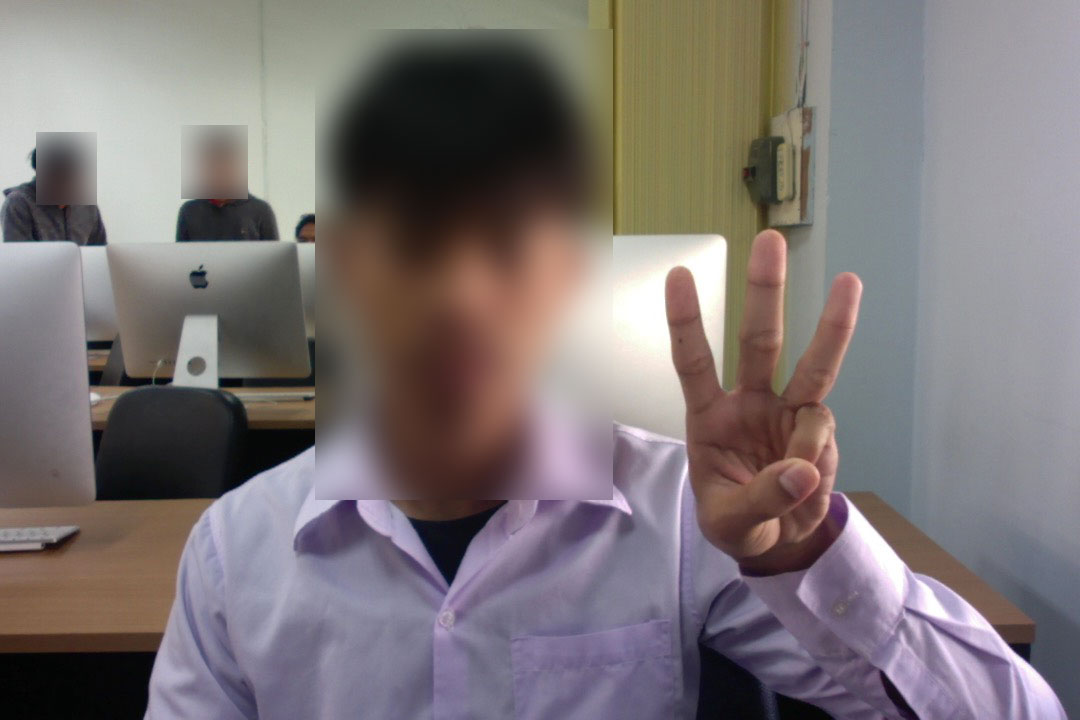wor: (641, 214, 873, 575)
